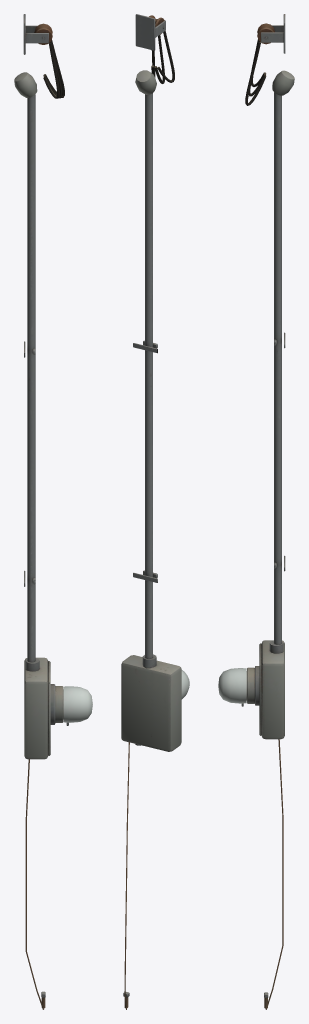
The model's file is service_mast_low.glb.
3 views of the same model, side by side, from view 1: azimuth 90°, elevation 25°; view 2: azimuth 150°, elevation 25°; view 3: azimuth 270°, elevation 25° (orthographic). The views are drawn at different scales.
Visible parts, largest first — view 1: service_mast_low; view 2: service_mast_low; view 3: service_mast_low.
Boxes of the visible parts, bbox=[...] form: service_mast_low: bbox=[14, 14, 92, 1009]; service_mast_low: bbox=[121, 14, 189, 1009]; service_mast_low: bbox=[218, 14, 294, 1009].
Size of the model in its own units: 0.2972 by 5.04 by 0.3575.
2 materials, 2 textured.
